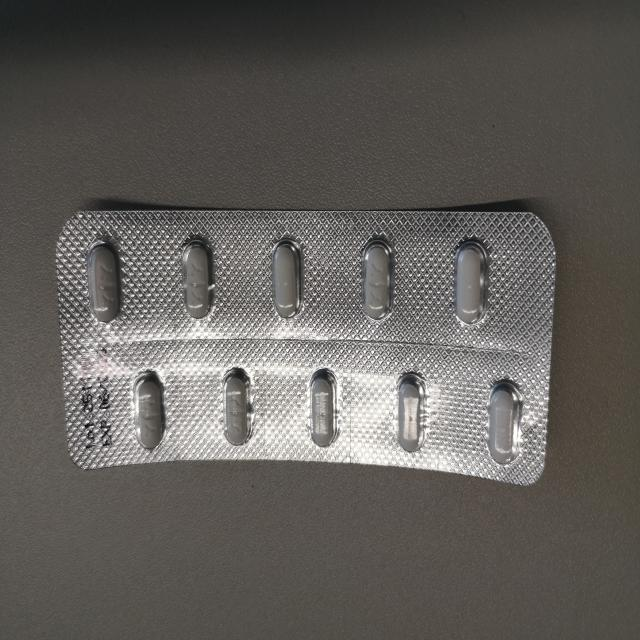Pill: (175, 232, 221, 322), (79, 238, 127, 324), (355, 235, 401, 322), (449, 235, 491, 328), (265, 234, 309, 320), (485, 377, 524, 467), (391, 369, 431, 455), (217, 364, 256, 449), (128, 368, 167, 453), (304, 366, 341, 452)
